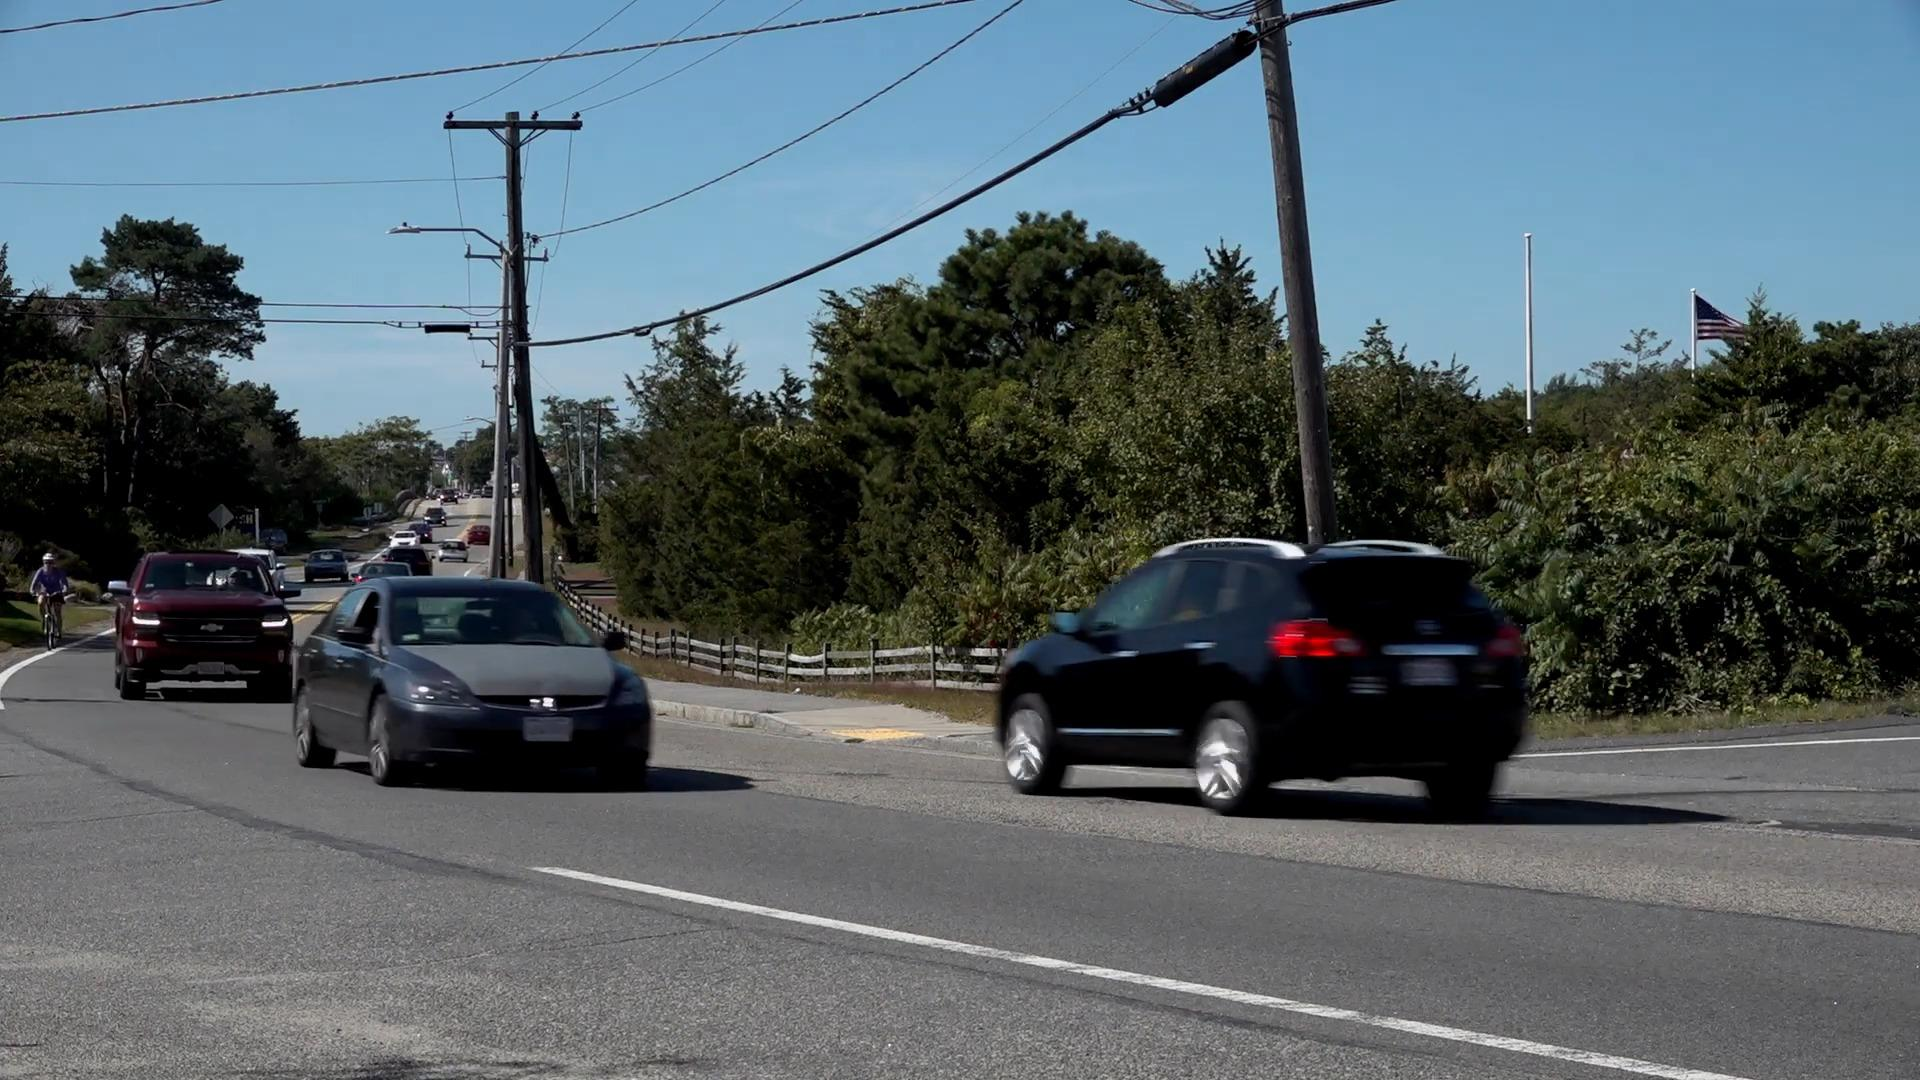pickup: (109, 550, 305, 700)
sedans: (298, 579, 651, 790)
suv: (993, 533, 1530, 819)
